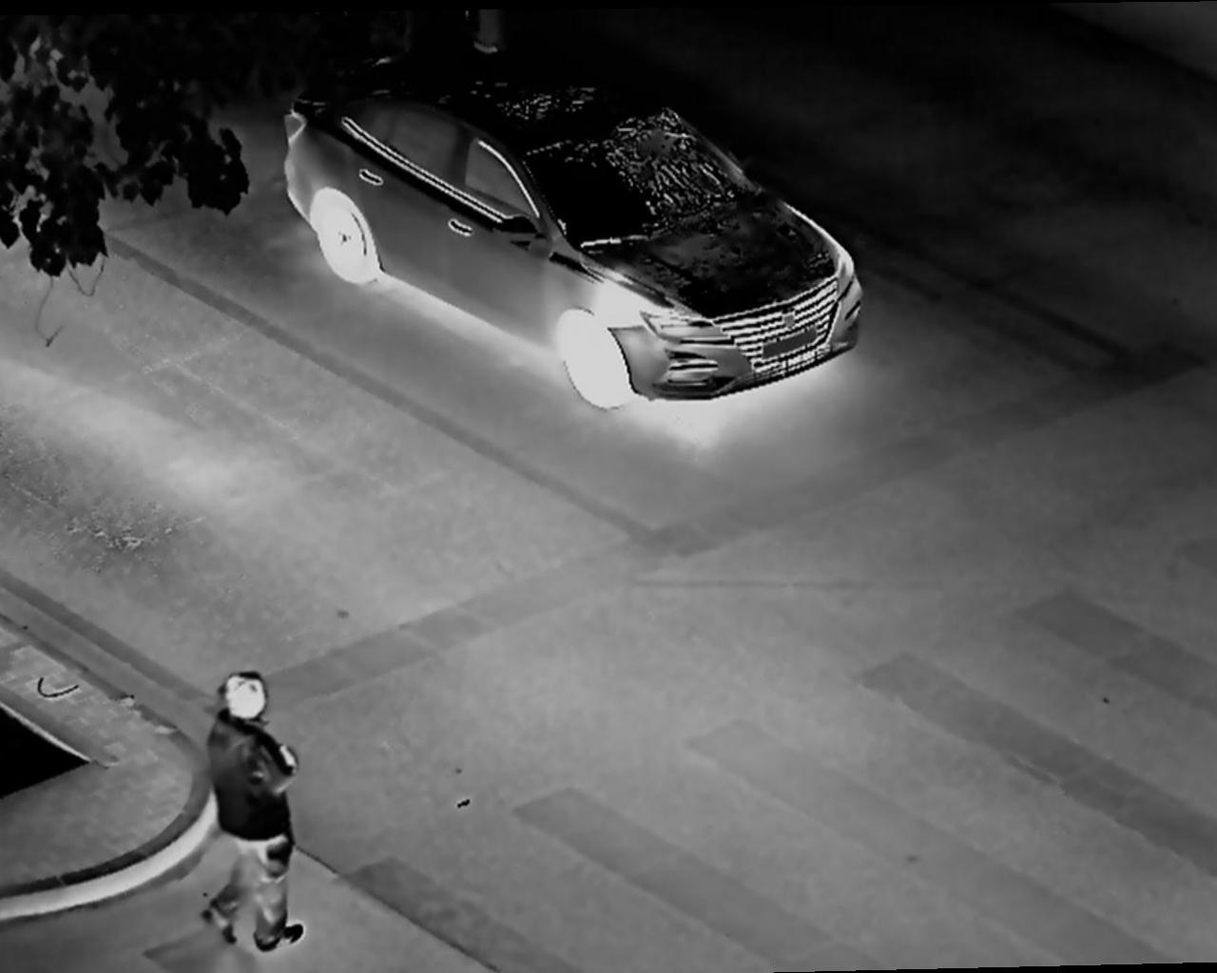person: (199, 666, 317, 972)
